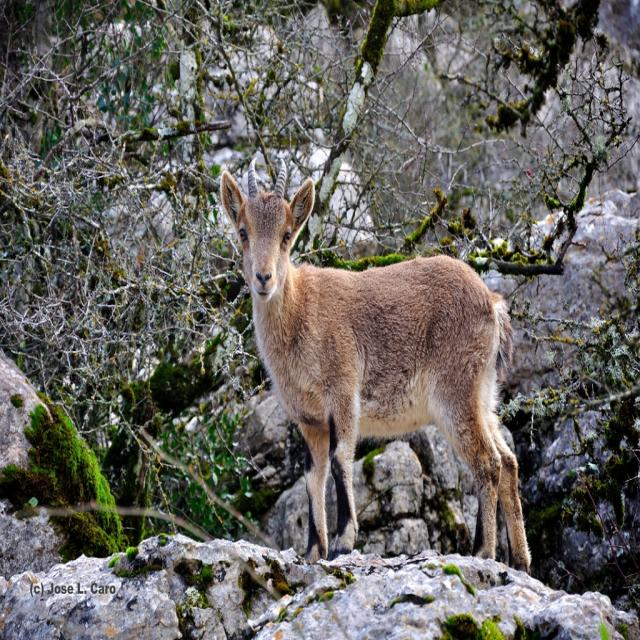Goat: (220, 157, 532, 576)
